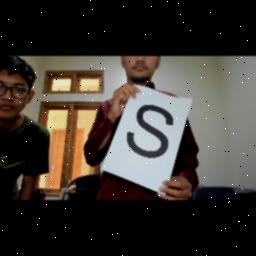s: (122, 102, 182, 160)
